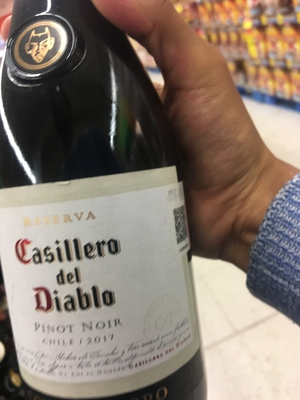casillero del diablo pinot noir: (1, 17, 205, 396)
